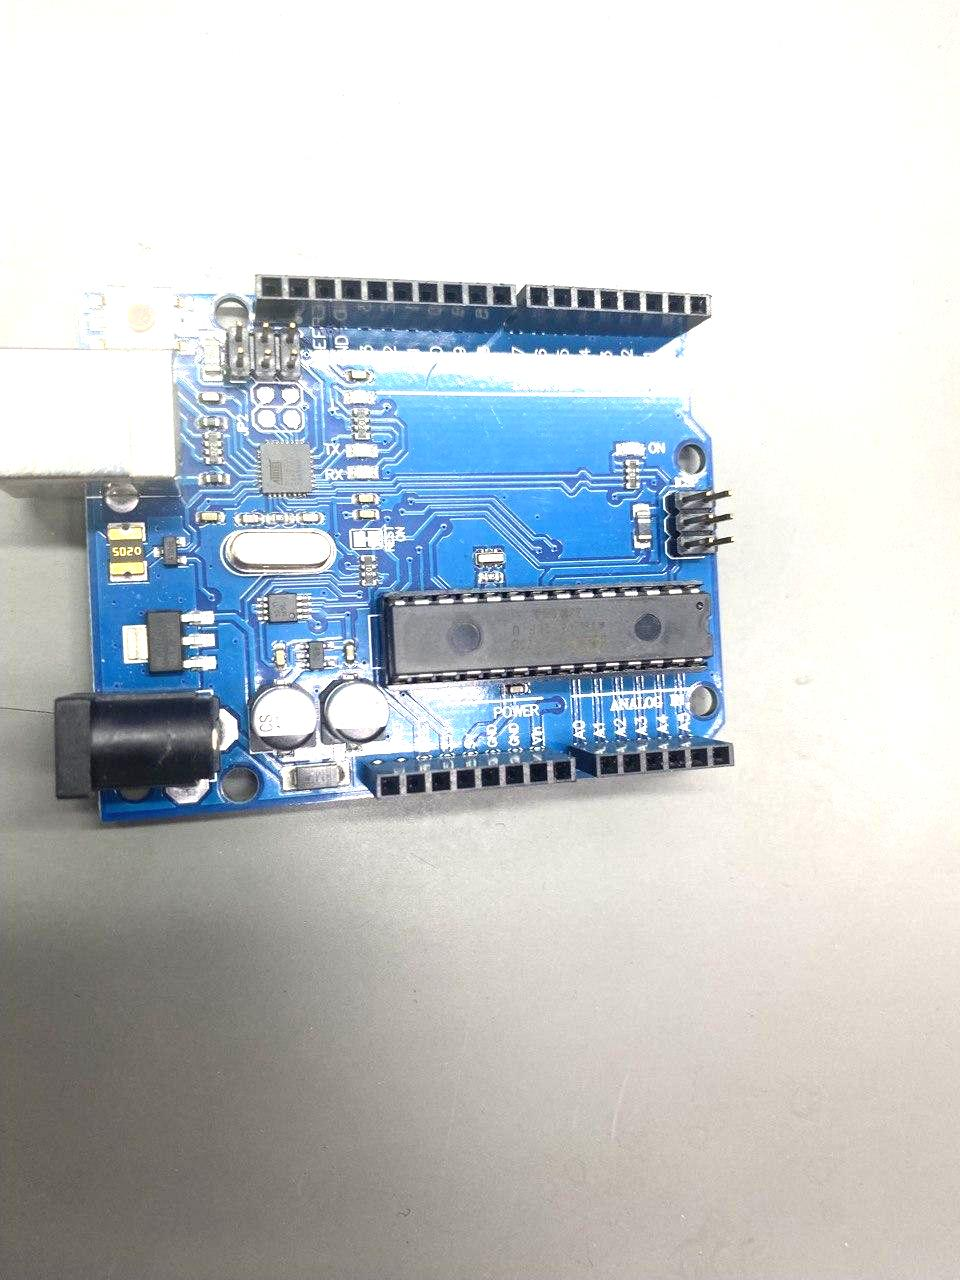ATmega328 chip: (376, 581, 714, 691)
Arduino board: (0, 274, 736, 822)
capacitor: (251, 685, 318, 750), (324, 680, 389, 744)
pins: (254, 274, 516, 333), (504, 284, 712, 337), (359, 751, 577, 800), (569, 738, 734, 778)
resistor: (204, 432, 223, 465), (352, 408, 371, 440), (359, 554, 378, 587), (625, 460, 640, 489)
